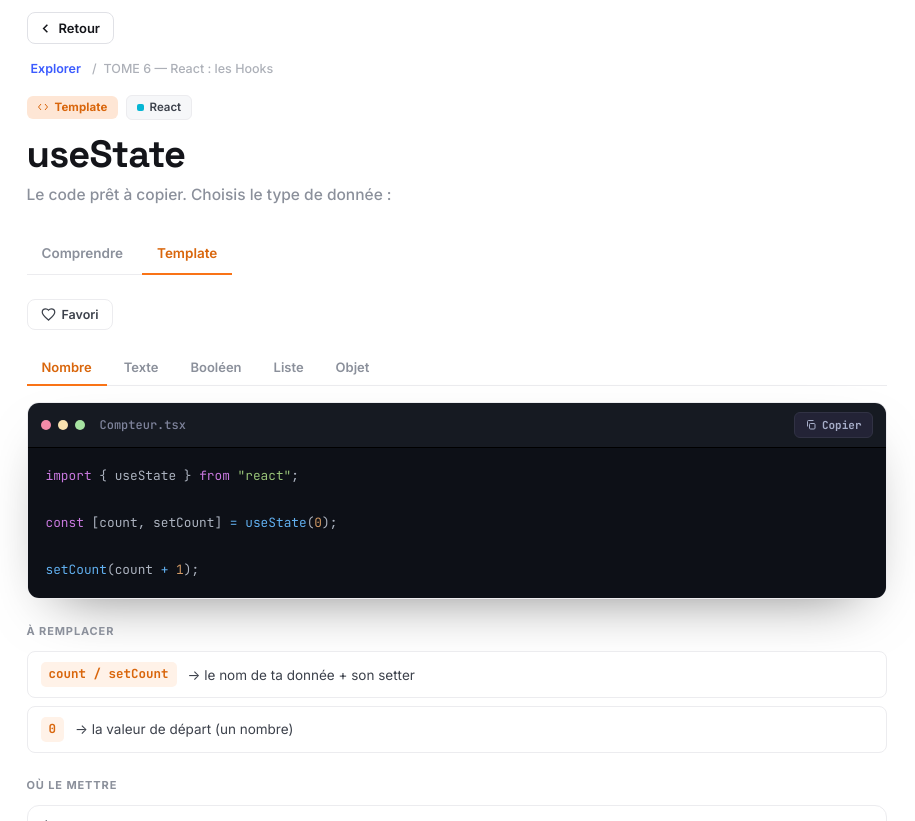
Template : variantes et copie › affiche les onglets et change le code à la sélection
Expected: the text "setCount" in the row of "const" is shown, [145,514,214,531]
Click the tab "Texte": {"x": 141, "y": 368} [109,350,174,386]
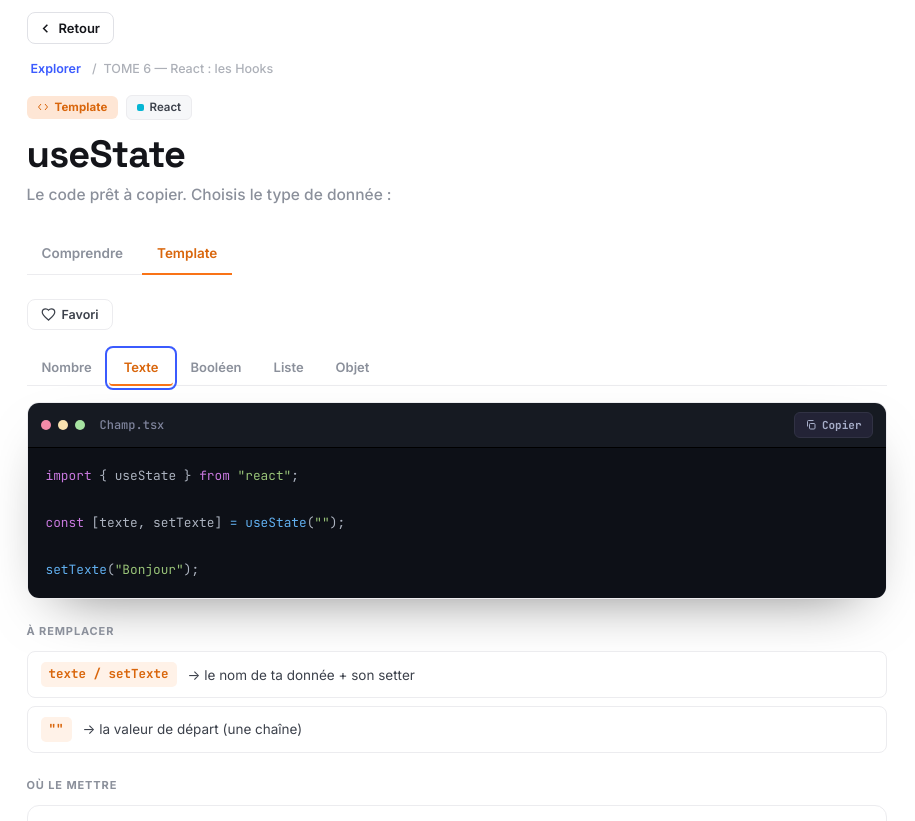
Result: the text "setTexte" in the row of "const" is shown at [145,514,214,531]
